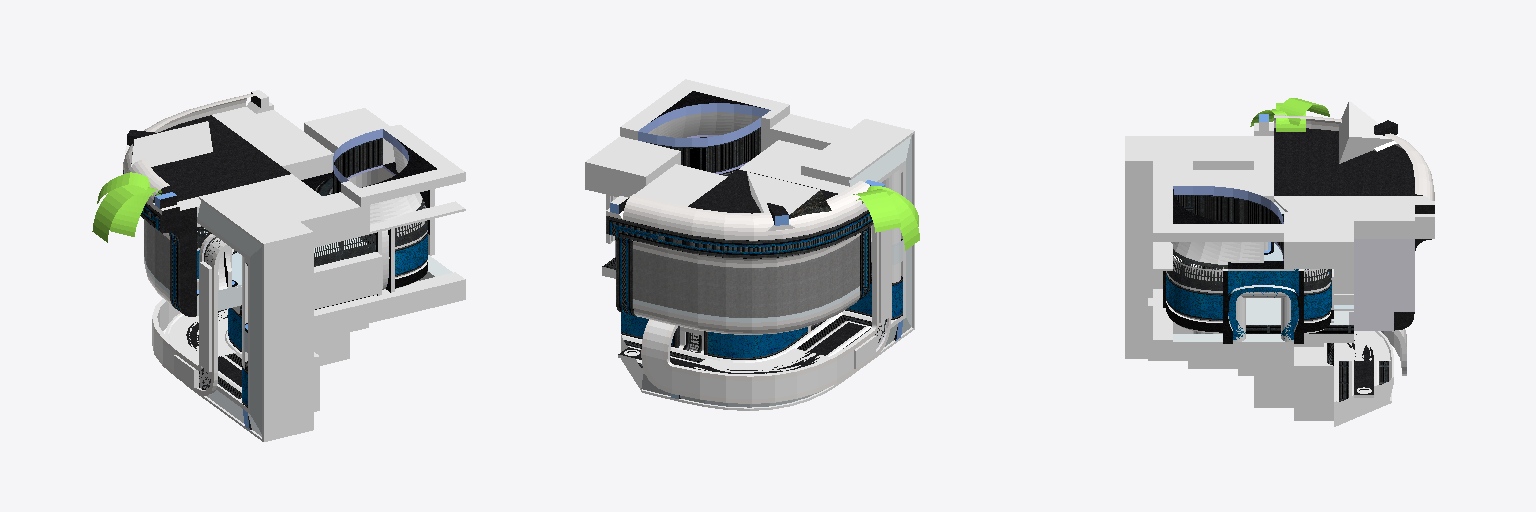
The picture shows the model from 3 angles: view 1: azimuth 30°, elevation 25°; view 2: azimuth 150°, elevation 25°; view 3: azimuth 270°, elevation 25°; orthographic projection.
Visible parts, largest first — view 1: entity0_brush151, entity0_patch665, entity0_brush122, entity0_brush247, entity0_brush146, entity0_brush145, entity0_brush118, entity0_brush214, entity0_brush150, entity0_brush16, entity0_brush129, entity0_brush88 (+25 smaller); view 2: entity0_patch532, entity0_patch495, entity0_brush214, entity0_brush122, entity0_patch321, entity0_patch500, entity0_brush118, entity0_patch487, entity0_brush146, entity0_patch519, entity0_patch556, entity0_patch324 (+28 smaller); view 3: entity0_patch665, entity0_brush7, entity0_brush214, entity0_brush150, entity0_brush122, entity0_brush106, entity0_brush35, entity0_brush247, entity0_brush44, entity0_patch487, entity0_brush118, entity0_patch324 (+24 smaller).
Boxes of the visible parts, x1,y1,x2,y2 form: entity0_brush151: [262, 232, 313, 441]; entity0_patch665: [151, 115, 290, 202]; entity0_brush122: [199, 185, 312, 244]; entity0_brush247: [212, 107, 333, 169]; entity0_brush146: [280, 192, 369, 245]; entity0_brush145: [245, 286, 447, 352]; entity0_brush118: [131, 121, 212, 166]; entity0_brush214: [304, 108, 394, 164]; entity0_brush150: [250, 247, 261, 433]; entity0_brush16: [351, 165, 465, 206]; entity0_brush129: [314, 261, 382, 300]; entity0_brush88: [314, 272, 465, 318]; entity0_patch532: [668, 236, 859, 317]; entity0_patch495: [658, 181, 869, 240]; entity0_brush214: [585, 136, 680, 197]; entity0_brush122: [801, 119, 914, 179]; entity0_patch321: [672, 351, 853, 398]; entity0_patch500: [668, 291, 859, 334]; entity0_brush118: [747, 172, 831, 218]; entity0_patch487: [646, 127, 760, 172]; entity0_brush146: [761, 114, 849, 151]; entity0_patch519: [658, 213, 871, 253]; entity0_patch556: [708, 331, 790, 359]; entity0_patch324: [648, 112, 760, 137]; entity0_patch665: [1274, 128, 1422, 195]; entity0_brush7: [1354, 239, 1414, 311]; entity0_brush214: [1284, 212, 1353, 268]; entity0_brush150: [1128, 164, 1147, 355]; entity0_brush122: [1125, 136, 1253, 162]; entity0_brush106: [1153, 334, 1293, 359]; entity0_brush35: [1294, 343, 1333, 420]; entity0_brush247: [1294, 196, 1430, 220]; entity0_brush44: [1254, 343, 1323, 407]; entity0_patch487: [1193, 195, 1283, 258]; entity0_brush118: [1339, 101, 1393, 163]; entity0_patch324: [1171, 242, 1263, 264].
Bounding box in the file's own units: 1104 × 792 × 984.
Materials: 53 (16 with a texture image).